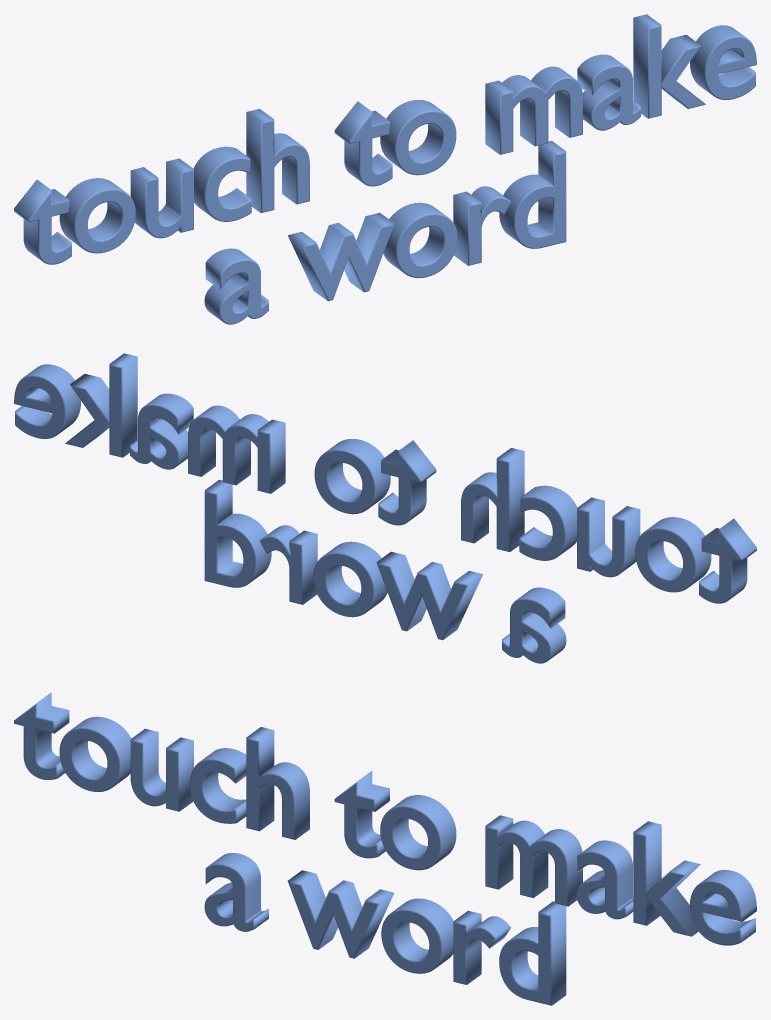
Rendered from touch1.glb.
3 views of the same model, one above another, from view 1: azimuth 30°, elevation 25°; view 2: azimuth 150°, elevation 25°; view 3: azimuth 330°, elevation 25° (orthographic).
Parts seen in each view (by area): view 1: Text; view 2: Text; view 3: Text.
Boxes of the visible parts, box(x1,y1,x2,y2) form: Text: box(14, 14, 756, 324); Text: box(14, 353, 756, 663); Text: box(14, 692, 756, 1005).
Size of the model in its own units: 5.91 by 1.51 by 0.22.
